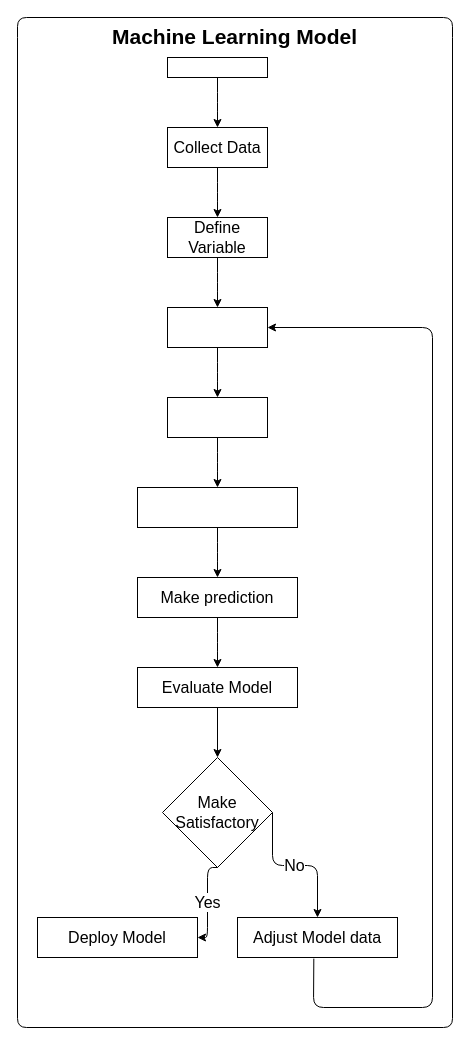
Some shapes in this 470 by 1045 pixel diagram are drawn without their labels. The shapes that lost their labels are listed below. From the top down, each one's centre as x and y in pixels, then its label:
(217,67): Start
(217,327): Split Dataset
(217,417): Train Model
(217,507): Calculate coefficients
